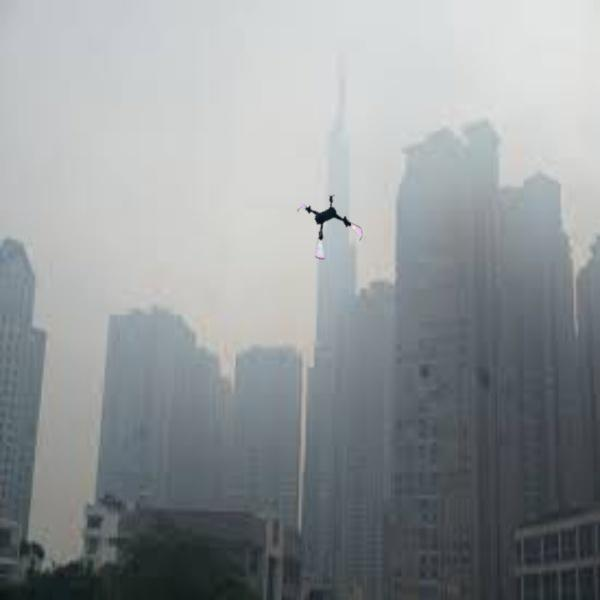drone: (298, 192, 367, 261)
